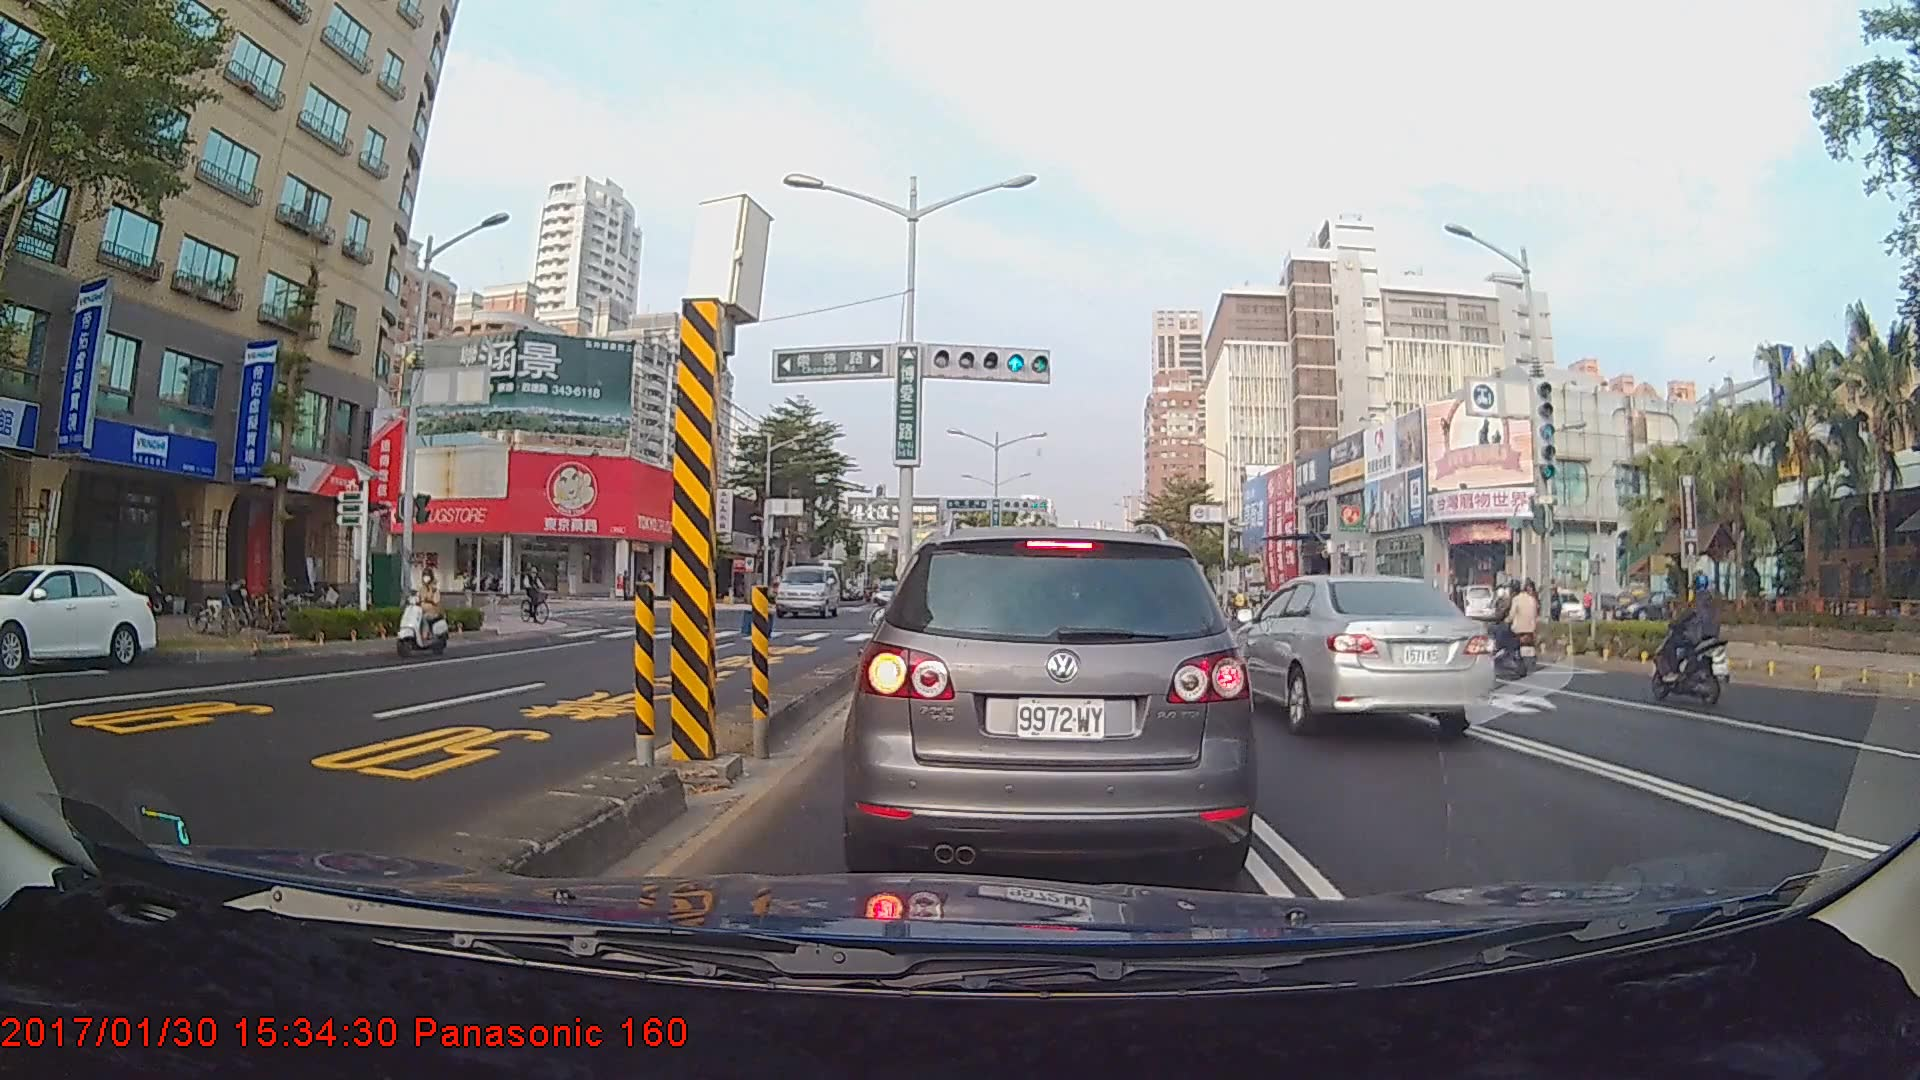rider: (1653, 571, 1736, 706), (393, 565, 463, 669), (1496, 575, 1542, 687), (518, 559, 561, 629)
vehicle: (855, 522, 1248, 878), (1226, 571, 1499, 739), (0, 561, 157, 671), (776, 563, 839, 620)
